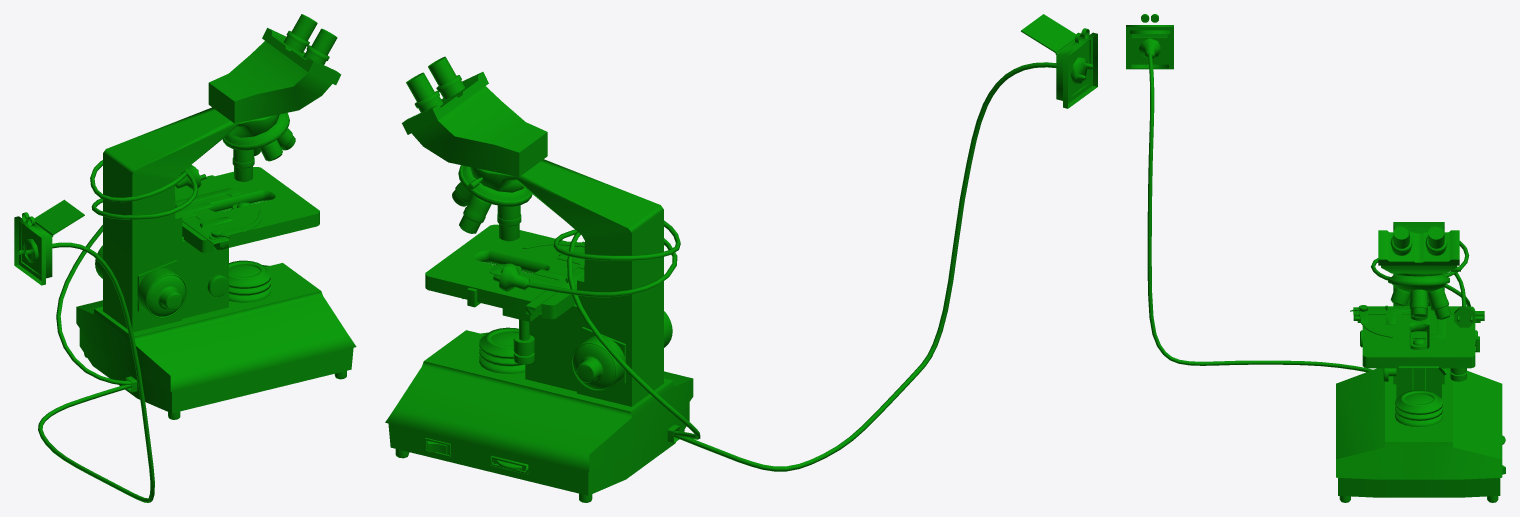
The model's file is mic_h_low.fbx.
3 renders of one model, left to right at view 1: azimuth 30°, elevation 25°; view 2: azimuth 150°, elevation 25°; view 3: azimuth 270°, elevation 25°, orthographic. The views are drawn at different scales.
Visible parts, largest first — view 1: main_body_01_low, observation_tube_low, stage_low, cable_plugged_low, stage_base_low, cable_collected_low, socket_low, light_low, focus_knob_fine_low, specimen_holder_low, revolving_nosepiece_low, socket_cover_low (+5 smaller); view 2: main_body_01_low, observation_tube_low, stage_low, cable_plugged_low, cable_collected_low, stage_base_low, socket_low, focus_knob_fine_low, light_low, socket_cover_low, revolving_nosepiece_low, focus_knob_coarse_low (+4 smaller); view 3: main_body_01_low, stage_low, observation_tube_low, cable_plugged_low, socket_low, light_low, stage_base_low, revolving_nosepiece_low, specimen_holder_low, cable_collected_low, eyepiece_right_low, eyepiece_left_low (+2 smaller).
Boxes of the visible parts, x1,y1,x2,y2 form: main_body_01_low: (76, 107, 356, 413); observation_tube_low: (208, 28, 341, 123); stage_low: (175, 167, 319, 252); cable_plugged_low: (38, 242, 154, 502); stage_base_low: (182, 239, 228, 318); cable_collected_low: (56, 160, 197, 385); socket_low: (14, 212, 52, 285); light_low: (229, 260, 270, 302); focus_knob_fine_low: (147, 275, 185, 316); specimen_holder_low: (175, 188, 241, 244); revolving_nosepiece_low: (222, 112, 289, 150); socket_cover_low: (34, 199, 84, 236); main_body_01_low: (385, 159, 693, 495); observation_tube_low: (402, 72, 547, 176); stage_low: (425, 224, 584, 319); cable_plugged_low: (674, 62, 1056, 471); cable_collected_low: (527, 220, 700, 439); stage_base_low: (525, 304, 576, 391); socket_low: (1056, 28, 1097, 108); focus_knob_fine_low: (573, 343, 615, 389); light_low: (479, 327, 525, 373); socket_cover_low: (1021, 14, 1075, 54); revolving_nosepiece_low: (458, 165, 532, 206); focus_knob_coarse_low: (571, 311, 672, 390); main_body_01_low: (1336, 222, 1502, 497); stage_low: (1362, 306, 1475, 368); observation_tube_low: (1378, 227, 1459, 273); cable_plugged_low: (1147, 54, 1372, 372); socket_low: (1126, 14, 1173, 69); light_low: (1395, 390, 1442, 426); stage_base_low: (1396, 331, 1441, 398); revolving_nosepiece_low: (1388, 274, 1449, 292); specimen_holder_low: (1353, 307, 1445, 338); cable_collected_low: (1371, 241, 1470, 306); eyepiece_right_low: (1390, 225, 1412, 255); eyepiece_left_low: (1425, 225, 1447, 255).
Bounding box in the file's own units: 28.34 × 20.56 × 23.21.
